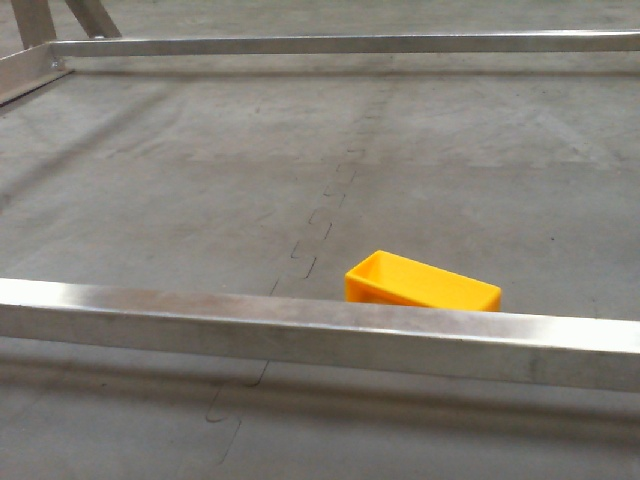YellowSample: (344, 247, 502, 311)
